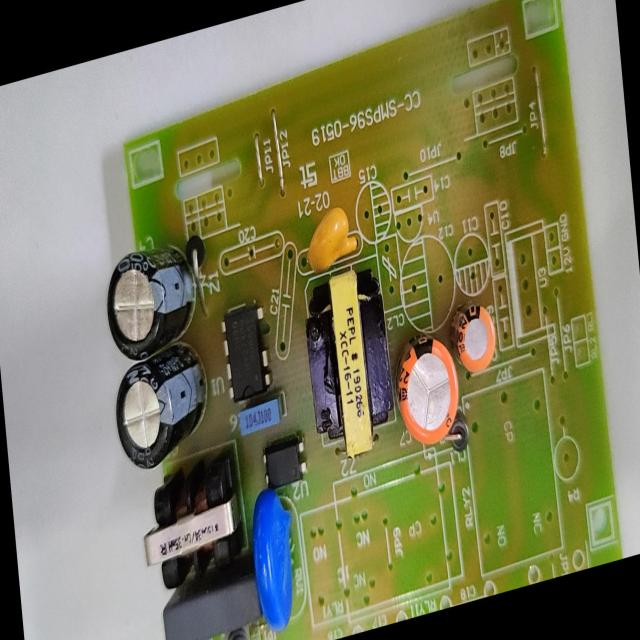Cap1: (392, 316, 466, 458)
Cap2: (450, 292, 500, 384)
Cap3: (109, 338, 218, 479)
Cap4: (99, 231, 203, 366)
MOSFET: (218, 300, 276, 403)
Mov: (247, 476, 303, 640)
Resistor: (222, 621, 258, 639)
Transformer: (297, 256, 398, 468), (137, 458, 241, 595)
